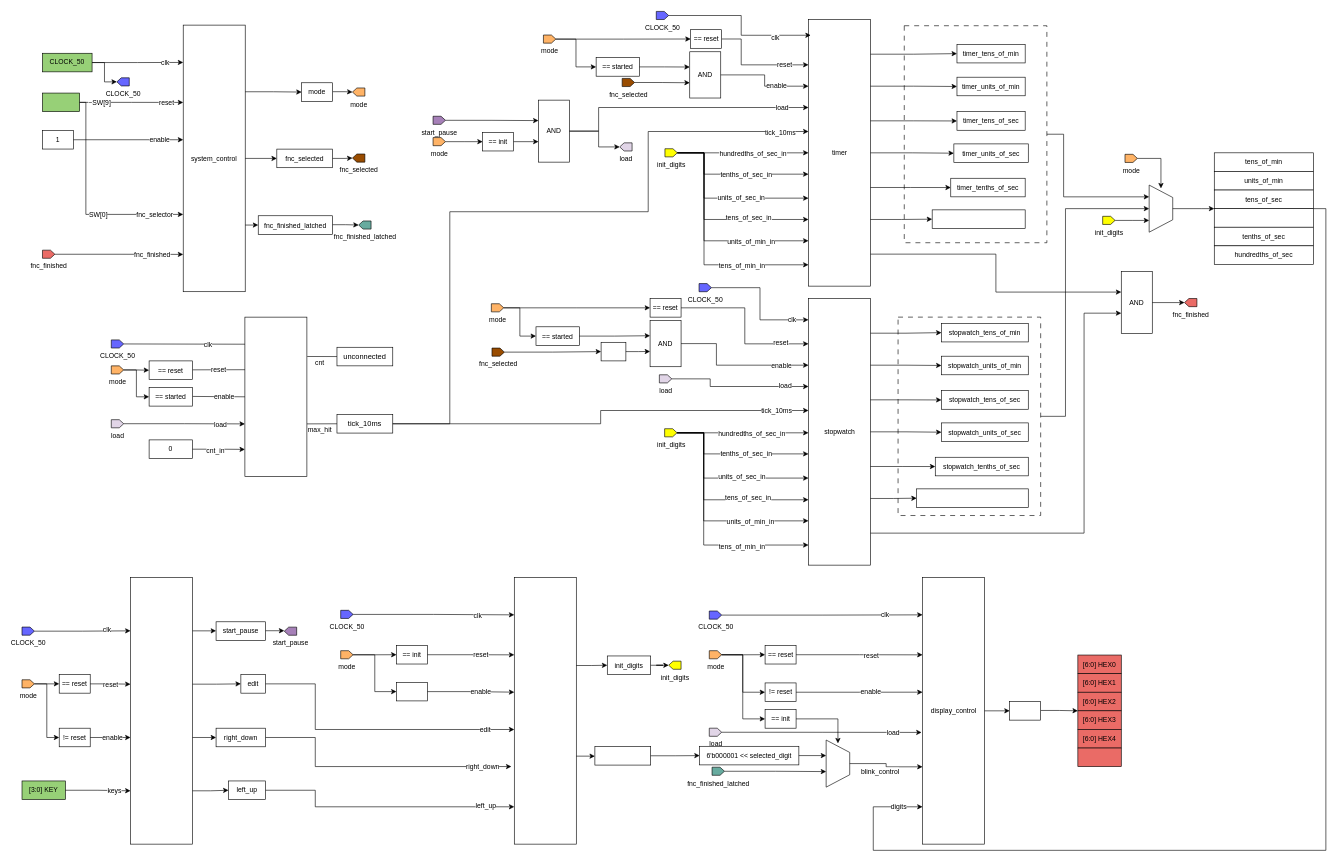
This 1342x866 diagram has some shape labels left out. The centre of each missing label's shape, as x and y in pixels:
"!= init" goes at pixel 411 691.
"[6:0] HEX5" goes at pixel 1099 757.
"[9:0] SW" goes at pixel 61 102.
"counter_inst1 SIZE = 4, MAXCUT = 9" goes at pixel 275 396.
"hex" goes at pixel 1025 710.
"keys_monitor" goes at pixel 161 710.
"navigation" goes at pixel 545 710.
"not" goes at pixel 613 351.
"selected_digit" goes at pixel 622 755.
"stopwatch_hundredths_of_sec" goes at pixel 972 497.
"timer_hundredths_of_sec" goes at pixel 978 218.
"units_of_sec" goes at pixel 1263 217.
